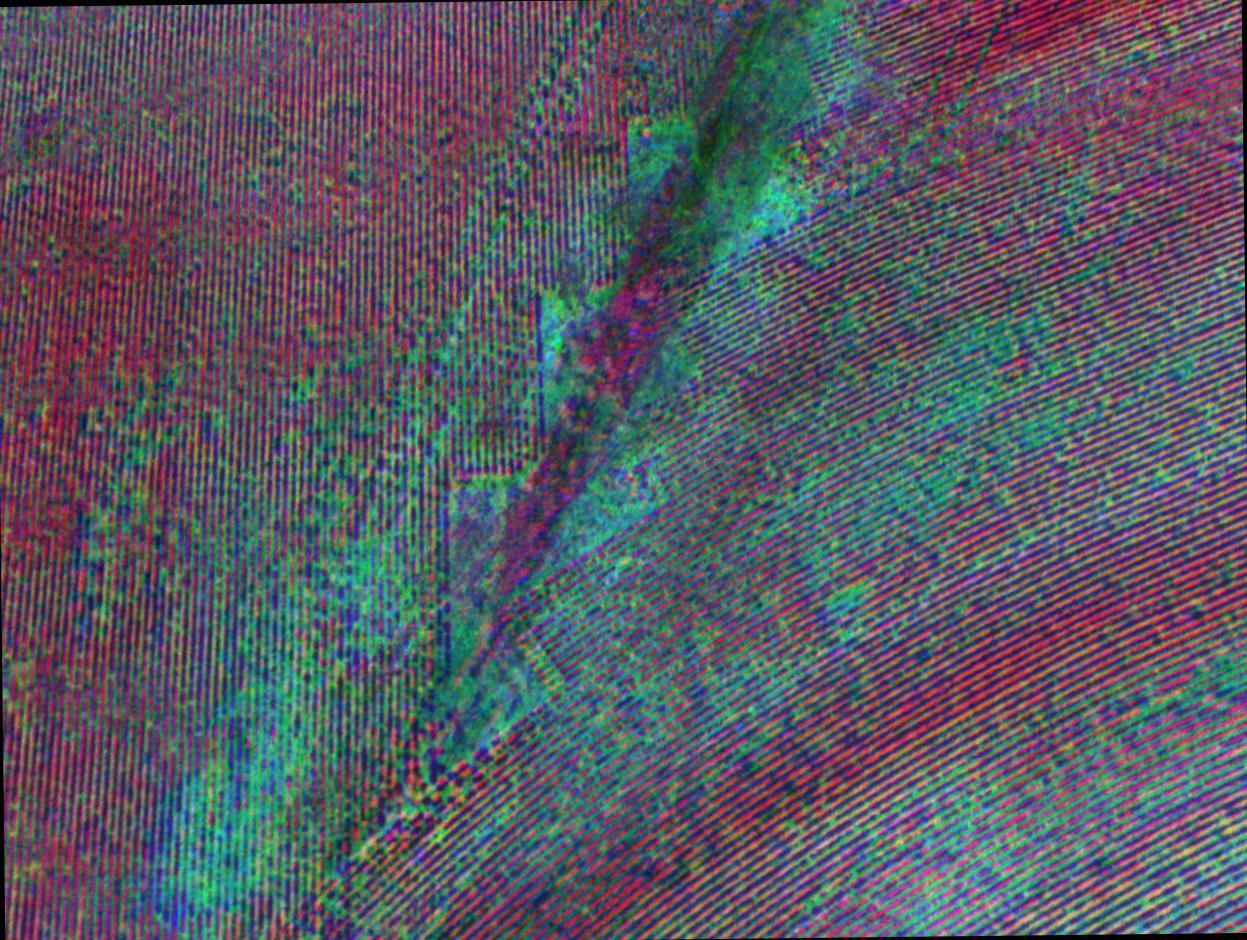dc: (161, 785, 261, 907), (918, 368, 987, 464), (326, 540, 404, 620), (736, 158, 805, 234), (768, 45, 829, 121)
